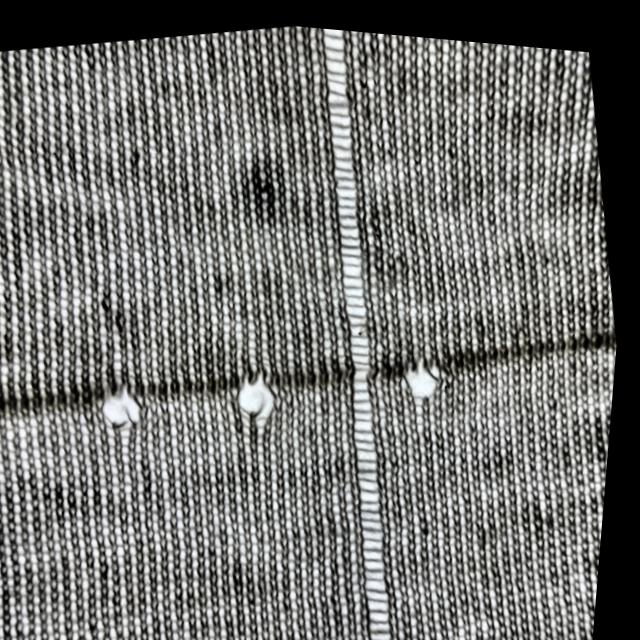Hole: (228, 153, 294, 229), (233, 356, 294, 431), (98, 370, 158, 446), (399, 339, 458, 406)
Stitch: (265, 21, 462, 640)
